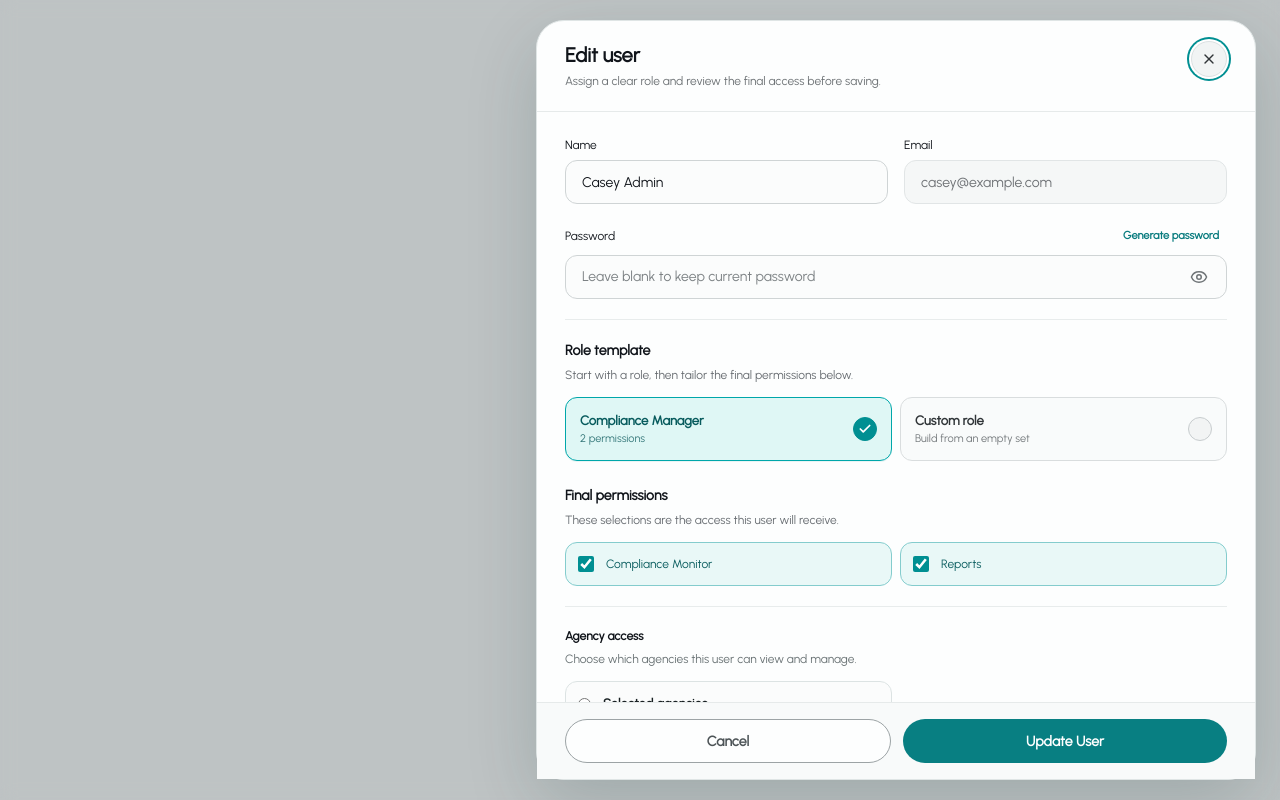
Test case: UserAccessModal › resets role state from edit data each time the modal opens
Later steps or results of the test are not shown.
Click the checkbox labelled "Reports". click: (921, 564)
box: x1=913 y1=556 x2=929 y2=572
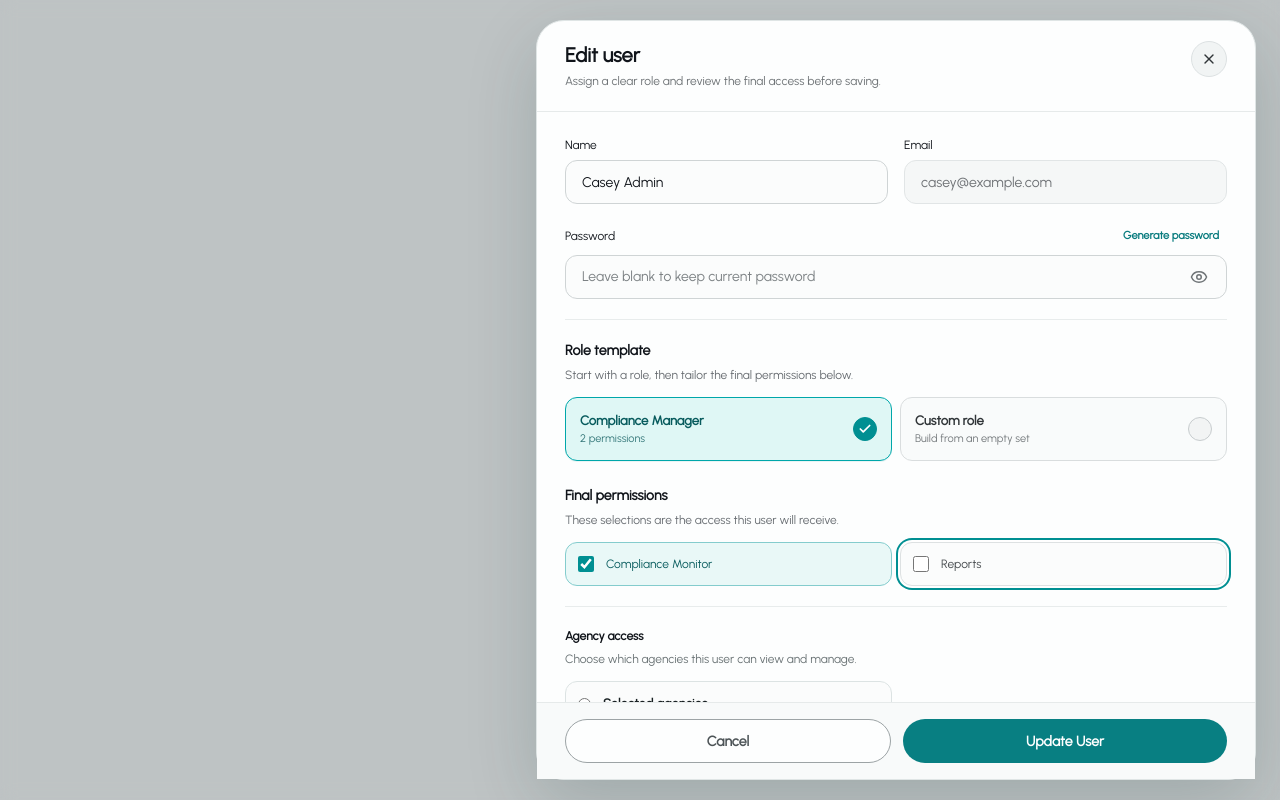
Expected: the checkbox labelled "Reports" is not checked, x1=913 y1=556 x2=929 y2=572
